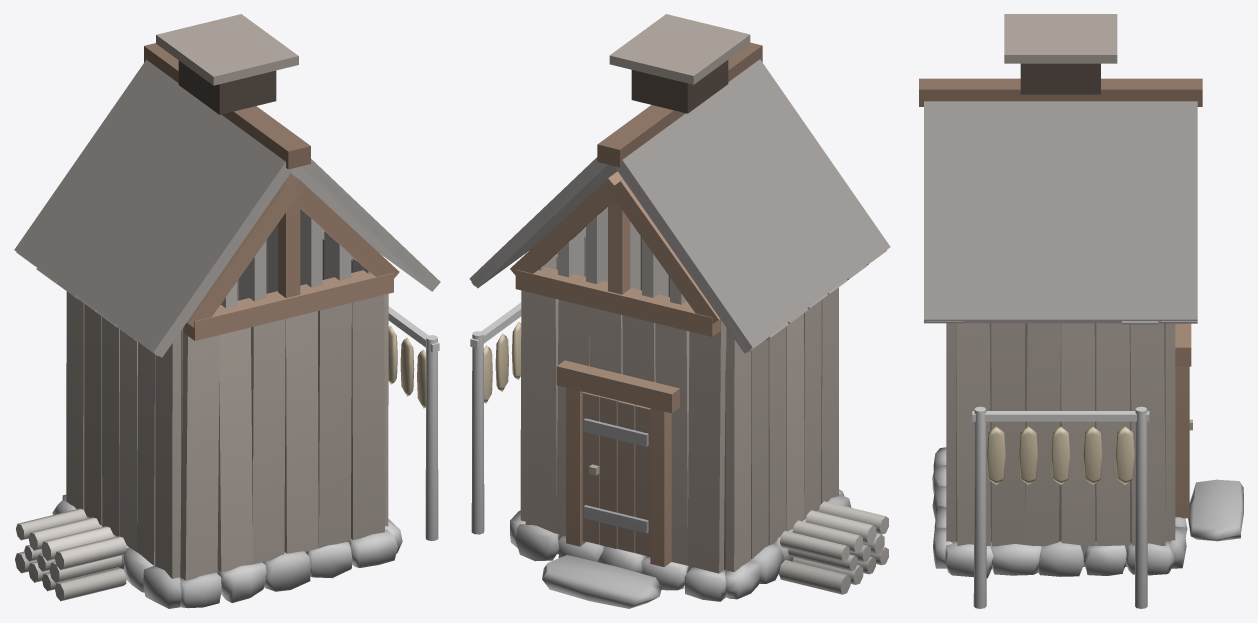
File: hw_smokehouse.glb
3 renders of one model, left to right at view 1: azimuth 30°, elevation 25°; view 2: azimuth 150°, elevation 25°; view 3: azimuth 270°, elevation 25°, orthographic.
Visible parts, largest first — view 1: Building; view 2: Building; view 3: Building.
Boxes of the visible parts, x1,y1,x2,y2 form: Building: (14, 14, 440, 608); Building: (469, 14, 890, 608); Building: (919, 14, 1243, 608).
Size of the model in its own units: 2.51 by 3.38 by 2.02.
